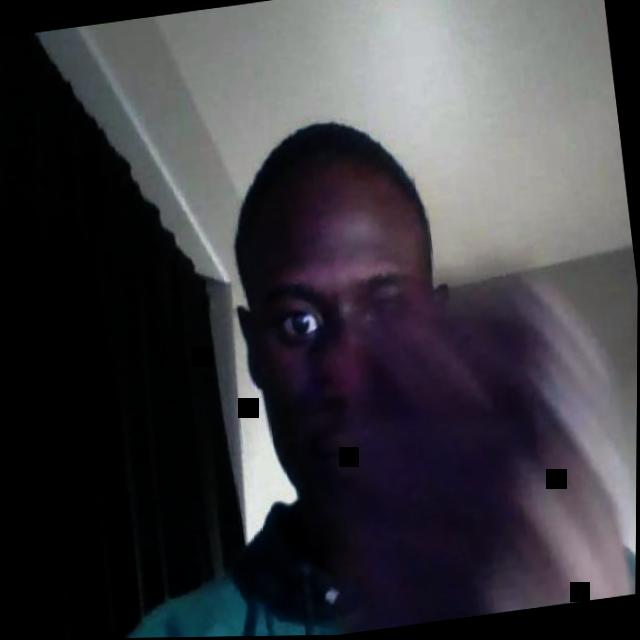NO-Mask: (245, 264, 457, 541)
